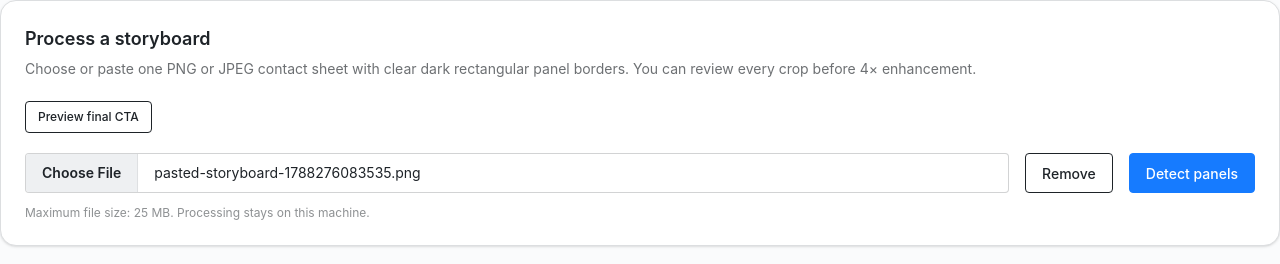
Test case: StoryboardUploader › accepts a PNG pasted from the clipboard
Expected: the button "Detect panels" is enabled, top-left (1129, 153), bottom-right (1255, 193)
What coordinates should you click on to do the following:
click the button with aria-label "Remove selected image"
I would click on:
 (1069, 173)
Its box is top-left (1025, 153), bottom-right (1113, 193).
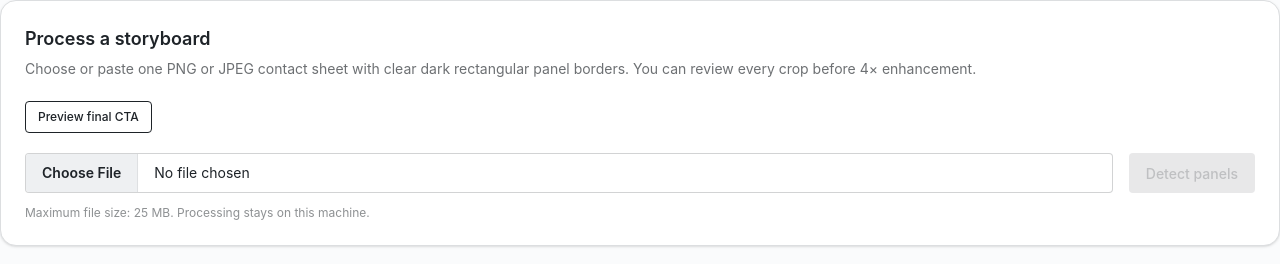
Result: the button "Detect panels" is disabled at top-left (1129, 153), bottom-right (1255, 193)
